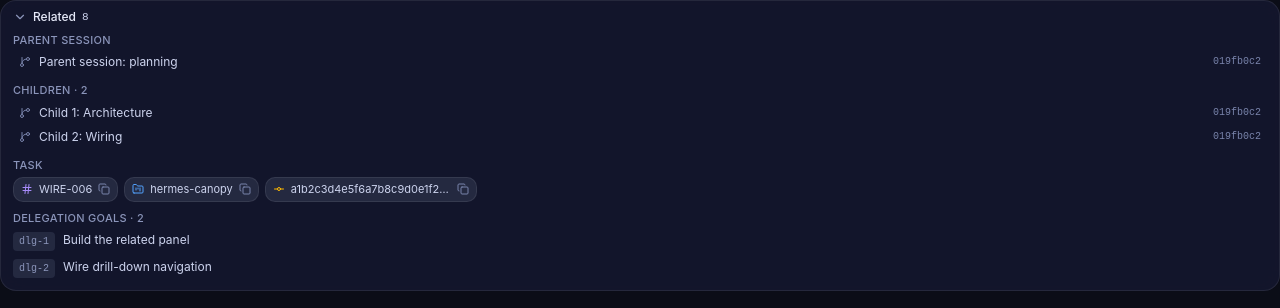
it: RelatedPanel — render › is open by default and collapses on click
Click the button with test id "related-panel-toggle". click: (54, 17)
box: [13, 9, 1267, 26]
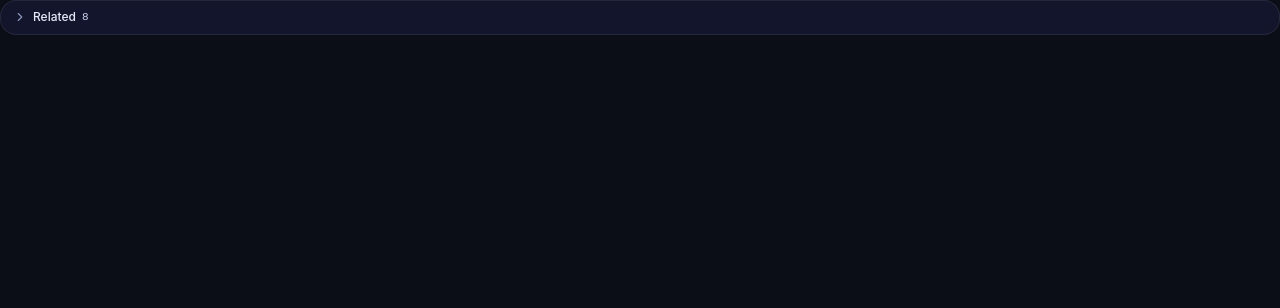
Expected: the element with test id "related-panel-detail" is gone
Expected: the button with test id "related-panel-toggle" is collapsed, [13, 9, 1267, 26]
